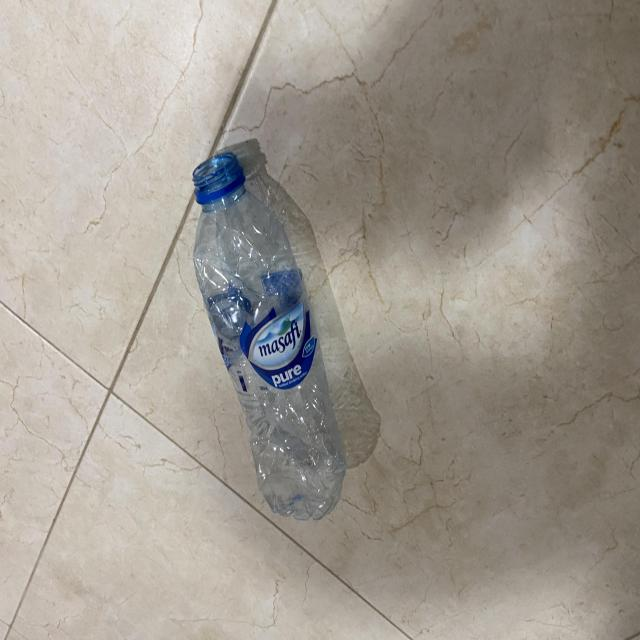plastic: (188, 145, 347, 524)
